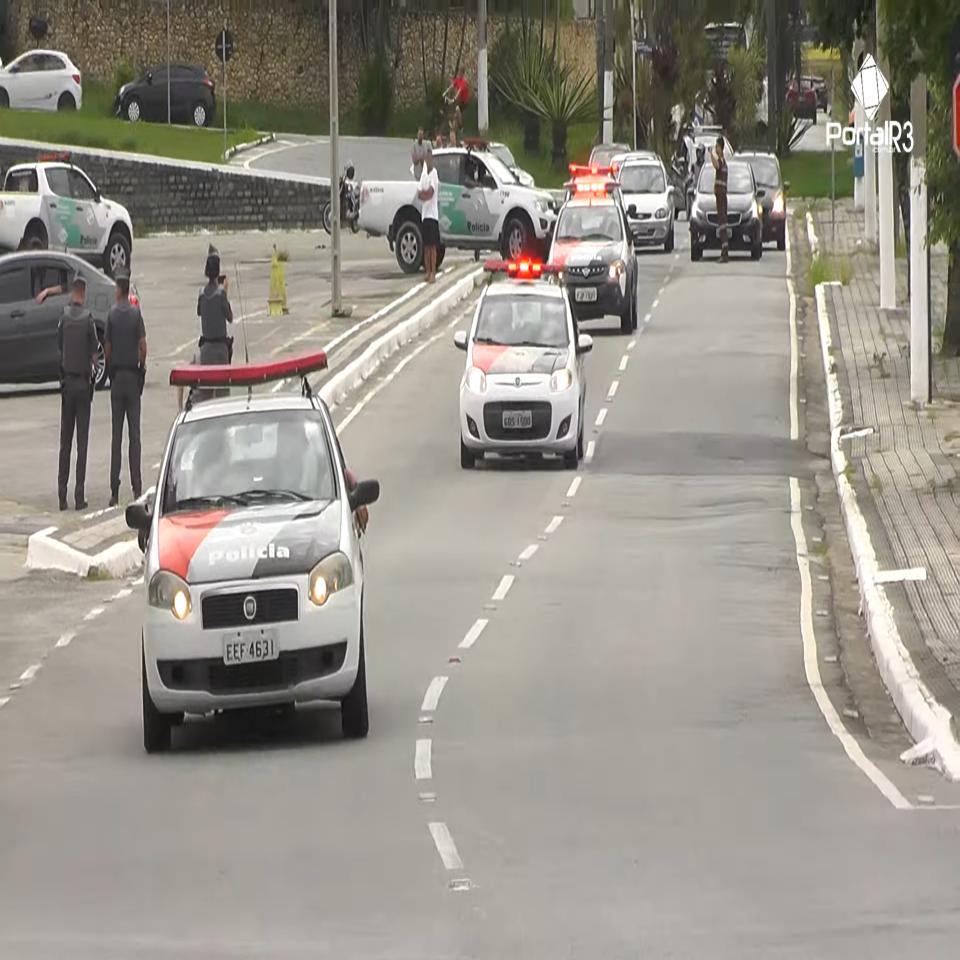viatura: (126, 350, 380, 757), (454, 254, 597, 472), (547, 174, 642, 330)
